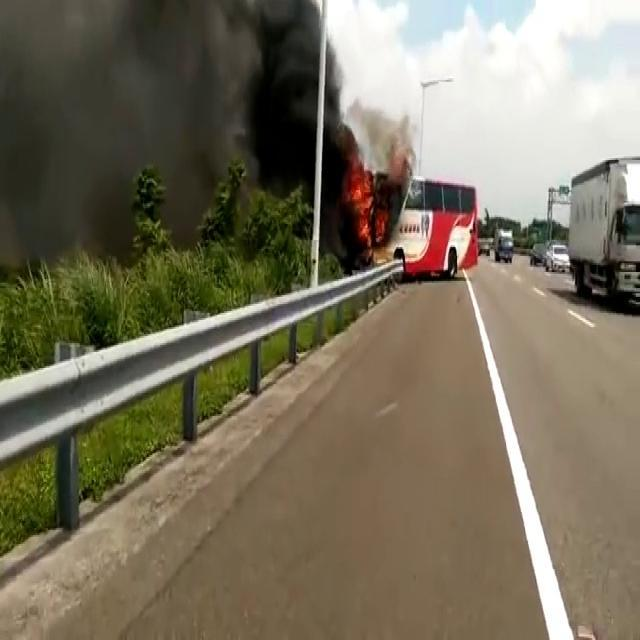Fire: (348, 158, 378, 256)
Smoke: (0, 0, 356, 274)
